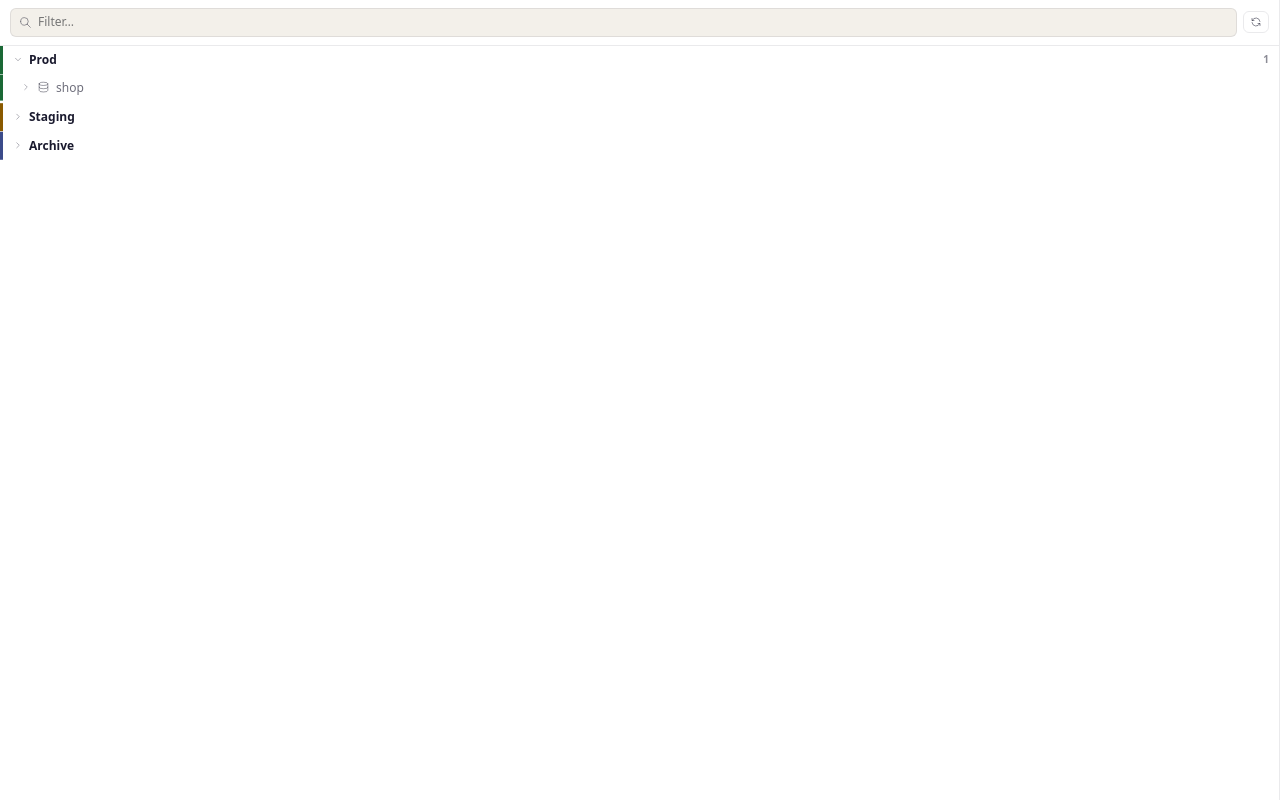
DbCollectionNavigator — an accordion of Connection roots › clicking the open root closes it, and nothing else opens in its place
Expected: the list item with test id "nav-db-shop" is shown, [20,78,84,95]
Click the list item with test id "nav-connection" showing "Prod 1". click: (18, 60)
box: [13,51,1269,68]
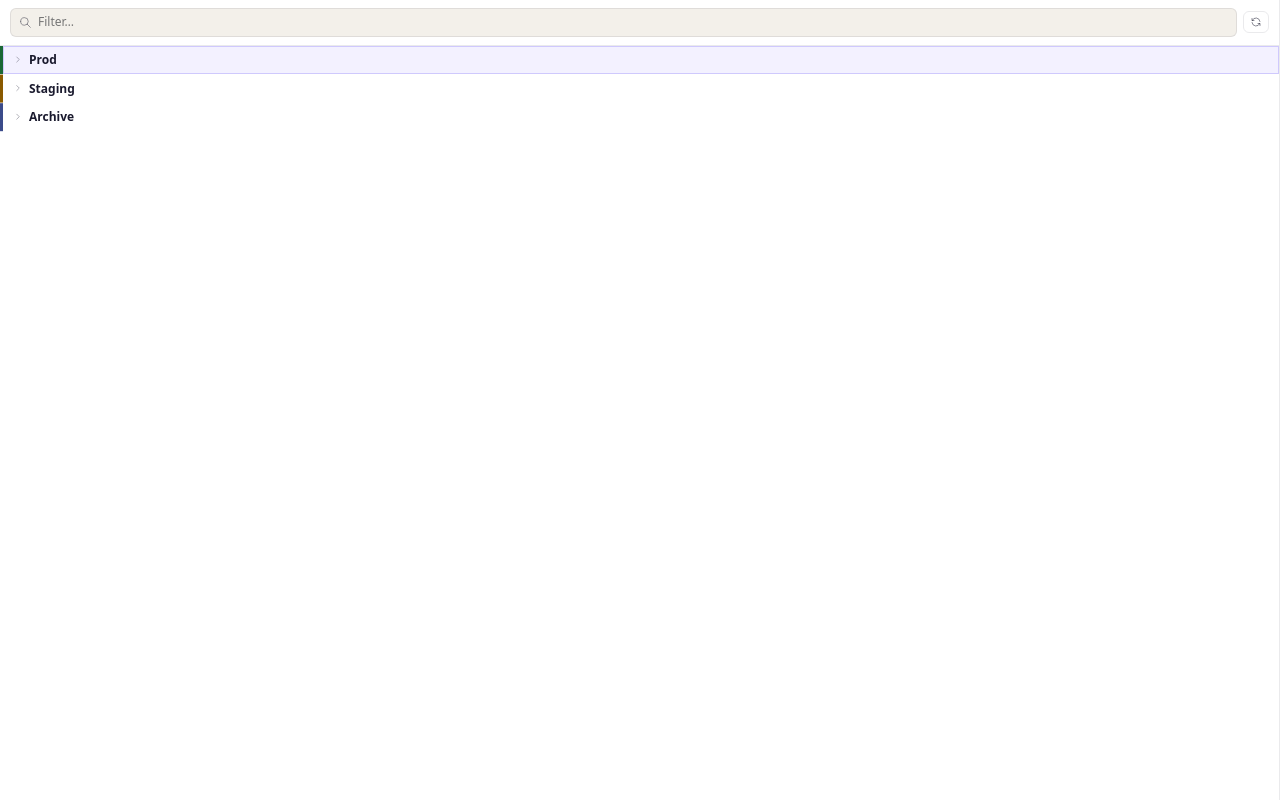
Result: the list item with test id "nav-connection" is collapsed at [3,46,1279,74]
Result: the list item with test id "nav-db-shop" is gone
